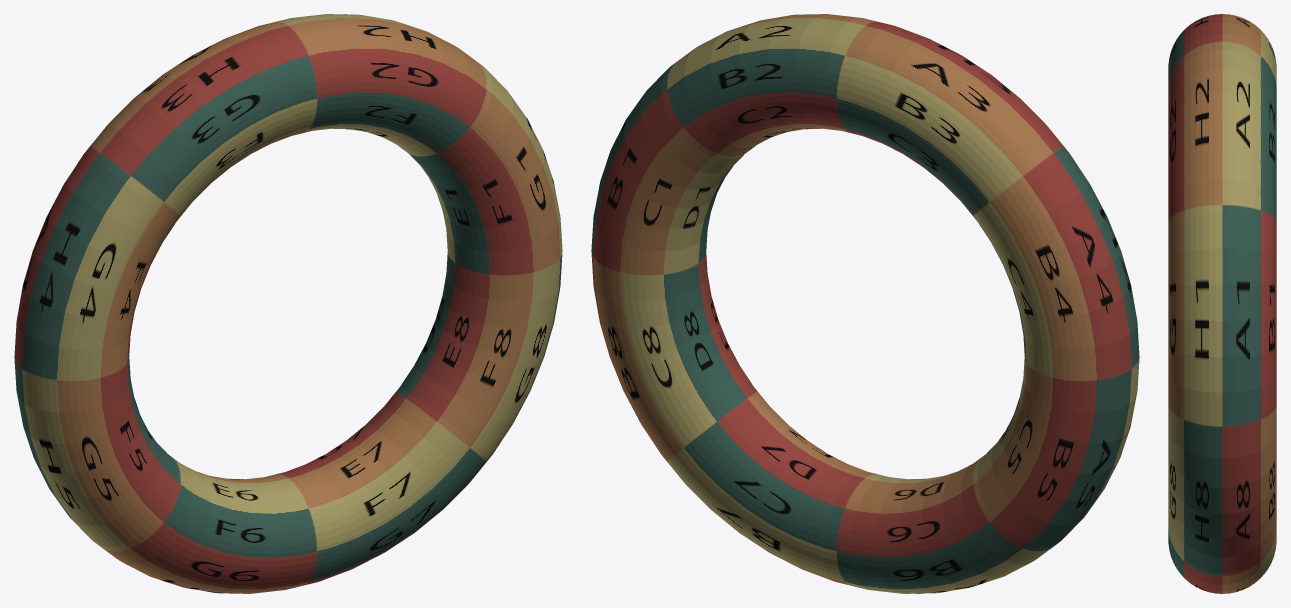
The model's file is texture_torus_R12_r8.glb.
The picture shows the model from 3 angles, left to right: view 1: azimuth 30°, elevation 25°; view 2: azimuth 150°, elevation 25°; view 3: azimuth 270°, elevation 25°; orthographic projection. The views are drawn at different scales.
Visible parts, largest first — view 1: world; view 2: world; view 3: world.
Part boxes in pixels (left/top/right/bottom): world: left=14, top=14, right=562, bottom=593; world: left=591, top=14, right=1139, bottom=593; world: left=1168, top=14, right=1276, bottom=593.
Size of the model in its own units: 22.13 by 22.09 by 4.13.
Materials: 1 (1 with a texture image).
